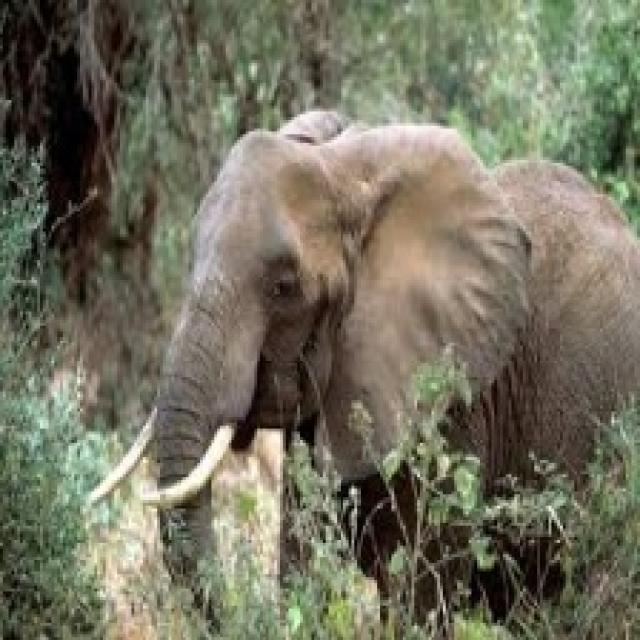animal: (96, 77, 633, 584)
